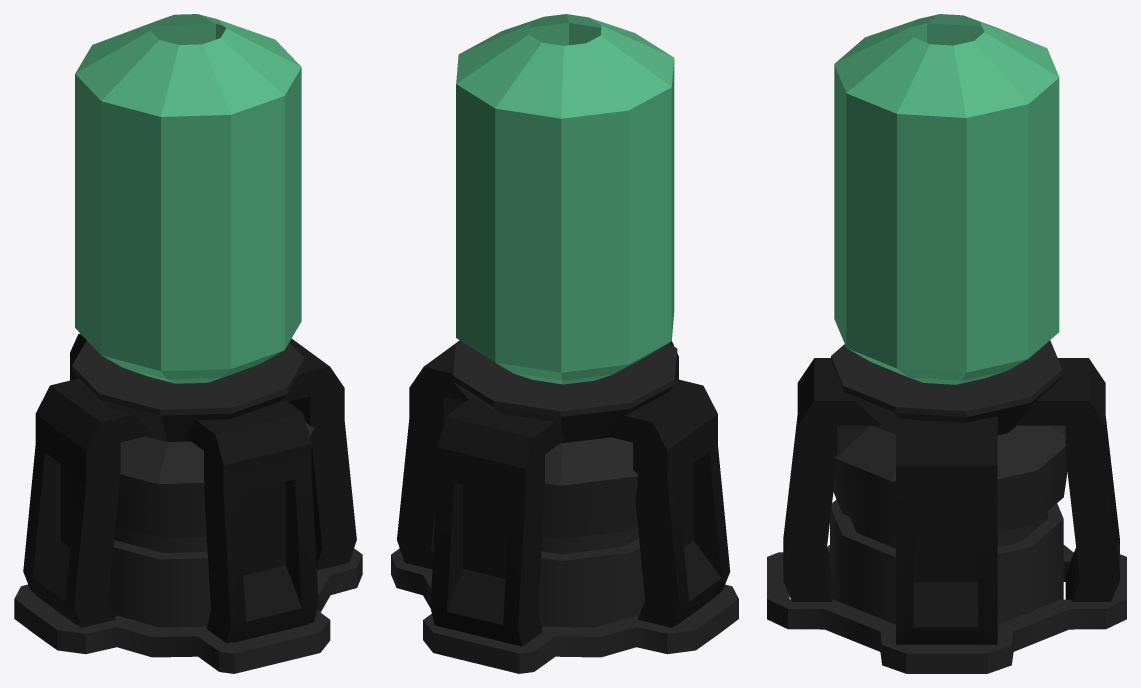
Rendered from Generator.fbx.
3 renders of one model, left to right at view 1: azimuth 30°, elevation 25°; view 2: azimuth 150°, elevation 25°; view 3: azimuth 270°, elevation 25°, orthographic.
Parts seen in each view (by area): view 1: Object; view 2: Object; view 3: Object.
Part boxes in pixels (left/top/right/bottom): Object: left=14, top=14, right=362, bottom=673; Object: left=391, top=14, right=738, bottom=673; Object: left=767, top=14, right=1126, bottom=673.
Size of the model in its own units: 94.63 by 167 by 95.95.
